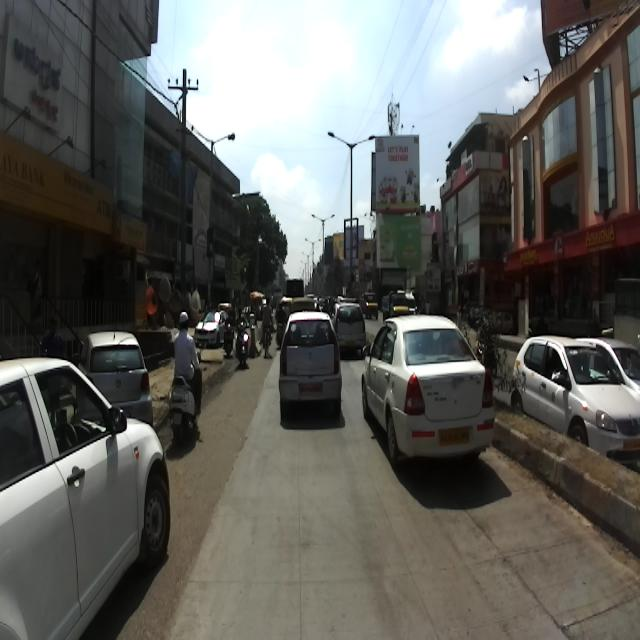car ahead at: (0, 354, 172, 640), (368, 299, 494, 470), (275, 313, 348, 420)
motorcycle ahead at: (164, 376, 209, 454)
